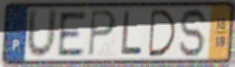D: (148, 8, 178, 58)
E: (57, 9, 88, 58)
L: (120, 10, 144, 57)
P: (87, 9, 117, 59)
S: (179, 7, 211, 59)
U: (25, 7, 59, 61)
